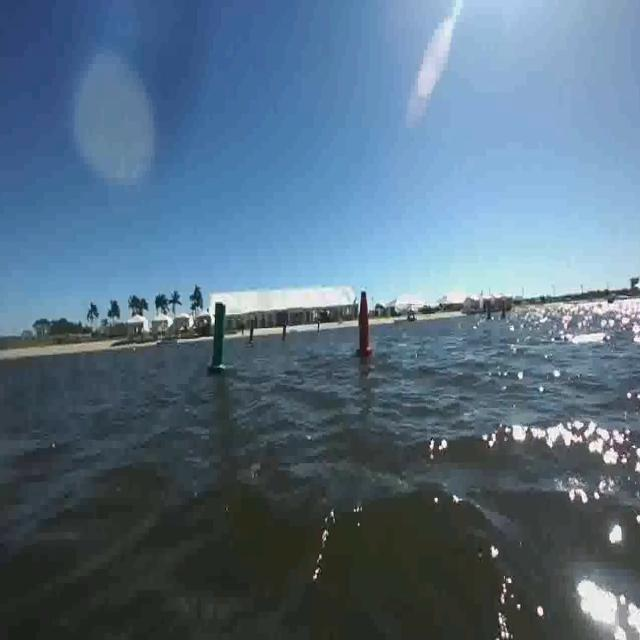green-column-buoy: (208, 300, 233, 376)
red-column-buoy: (354, 290, 373, 357)
